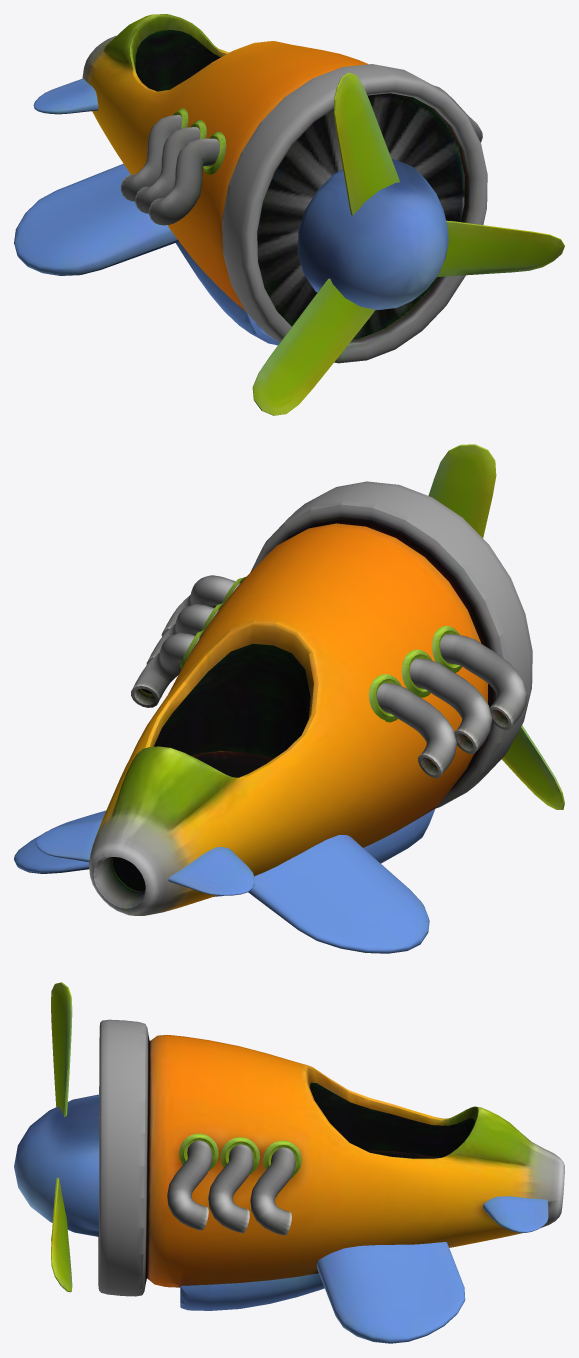
The picture shows the model from 3 angles, top to bottom: view 1: azimuth 30°, elevation 25°; view 2: azimuth 150°, elevation 25°; view 3: azimuth 270°, elevation 25°; orthographic projection. The views are drawn at different scales.
Visible parts, largest first — view 1: plane, prop; view 2: plane, prop; view 3: plane, prop.
Boxes of the visible parts, x1,y1,x2,y2 form: plane: (14, 14, 487, 363); prop: (252, 72, 564, 415); plane: (14, 481, 532, 953); prop: (428, 444, 564, 809); plane: (14, 1019, 564, 1343); prop: (51, 982, 72, 1292).
Bounding box in the file's own units: 7.59 × 6.7 × 11.16.
Materials: 2 (2 with a texture image).
